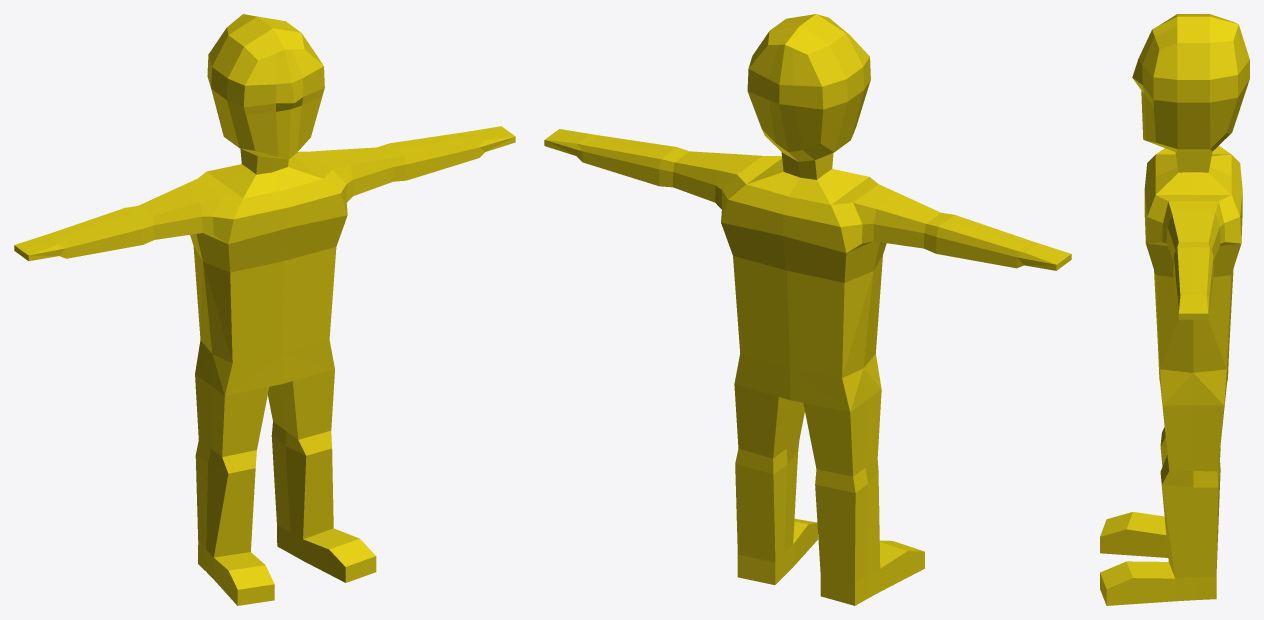
The model's file is human.gltf.
3 renders of one model, left to right at view 1: azimuth 30°, elevation 25°; view 2: azimuth 150°, elevation 25°; view 3: azimuth 270°, elevation 25°, orthographic. The views are drawn at different scales.
Visible parts, largest first — view 1: Cube.001; view 2: Cube.001; view 3: Cube.001.
Part boxes in pixels (x1,y1,x2,y2): Cube.001: (14,14,515,605); Cube.001: (544,14,1071,605); Cube.001: (1100,14,1249,605).
Bounding box in the file's own units: 11.9 × 12.51 × 3.06.
